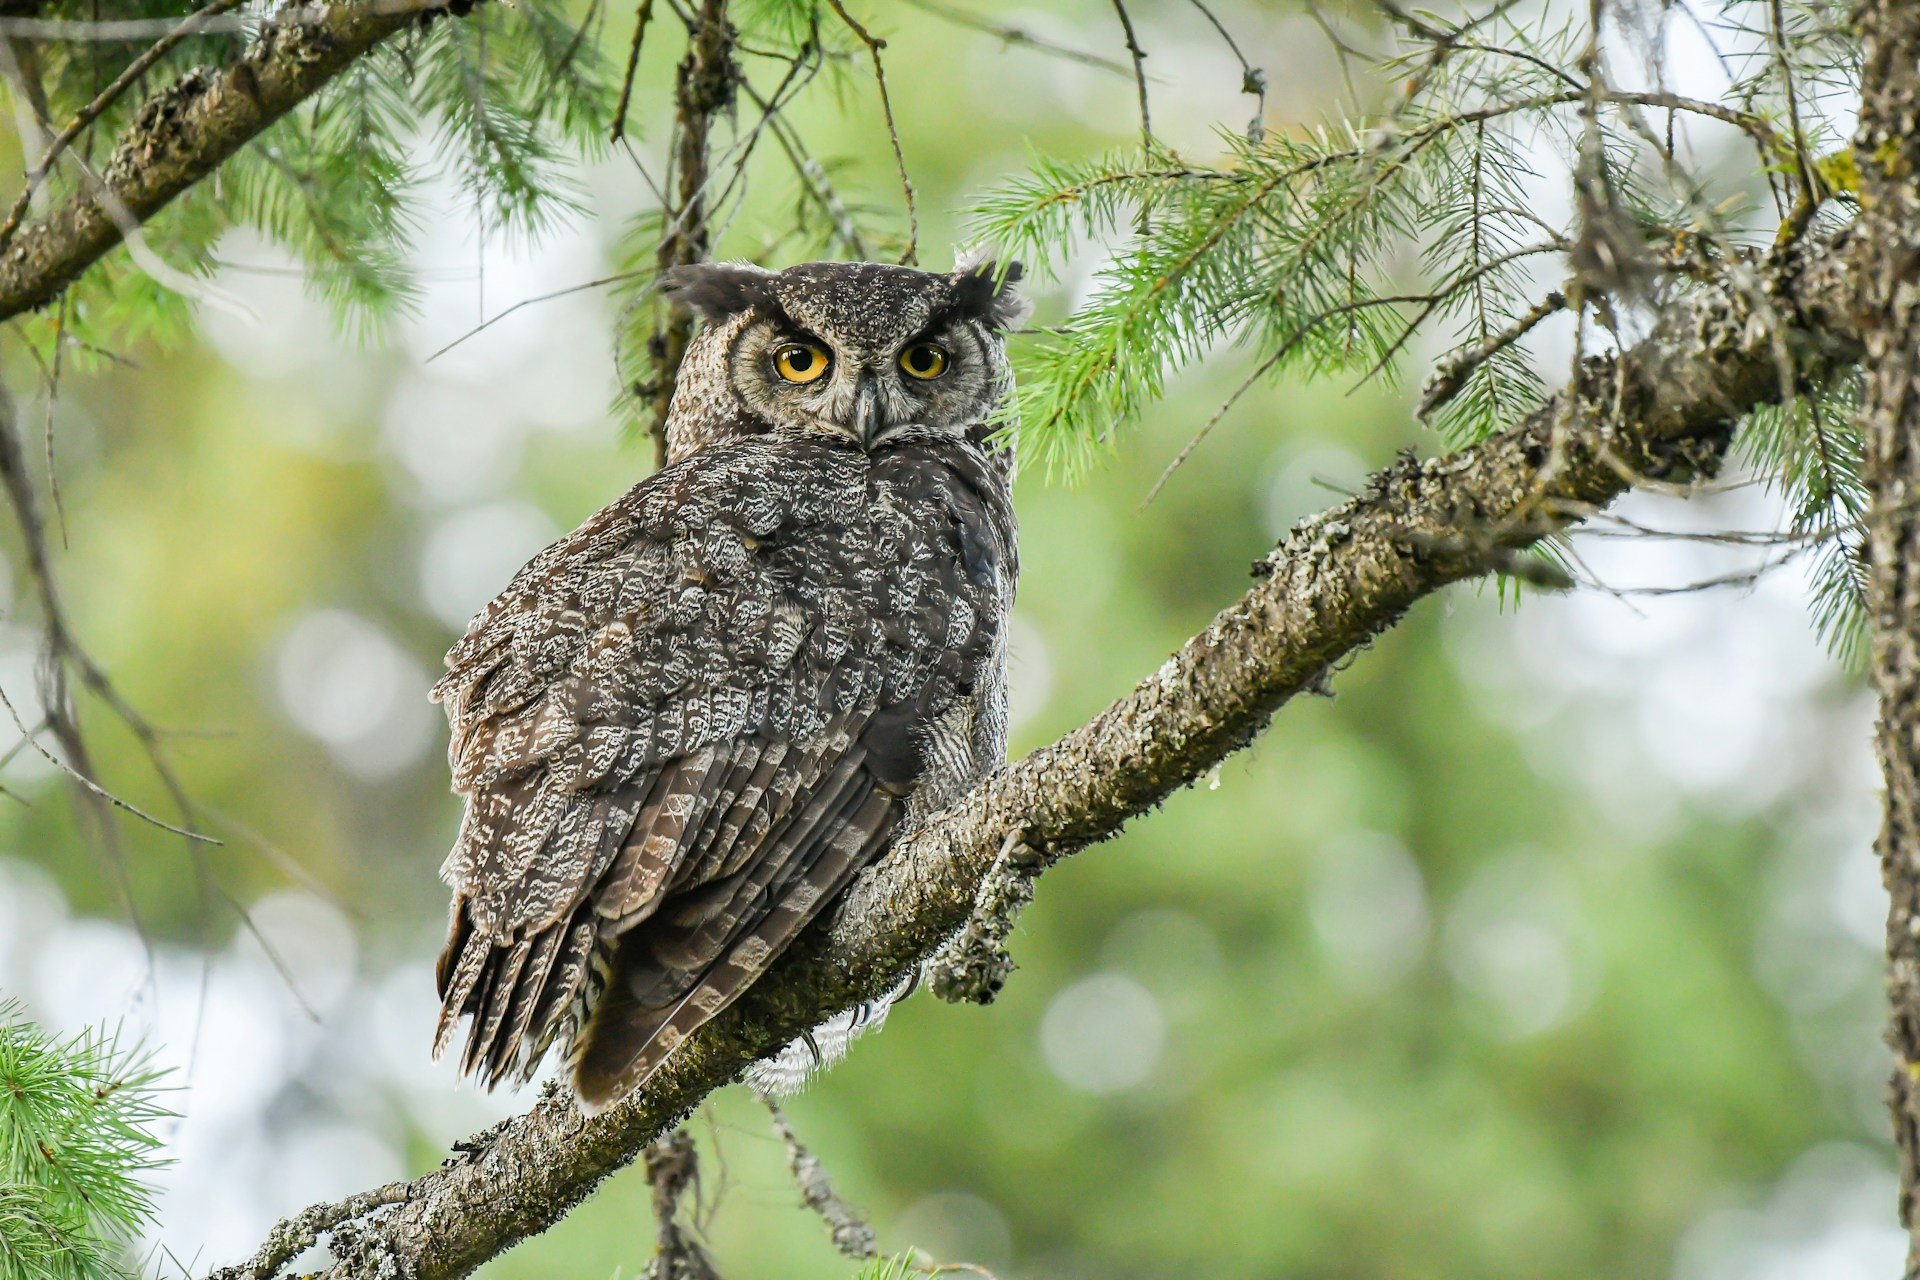owl: (399, 230, 1041, 1181)
